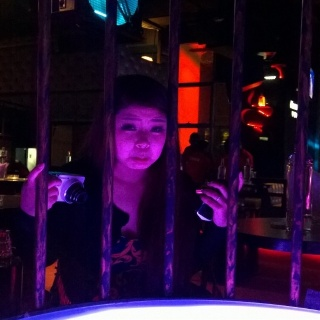without_mask: (114, 108, 167, 170)
